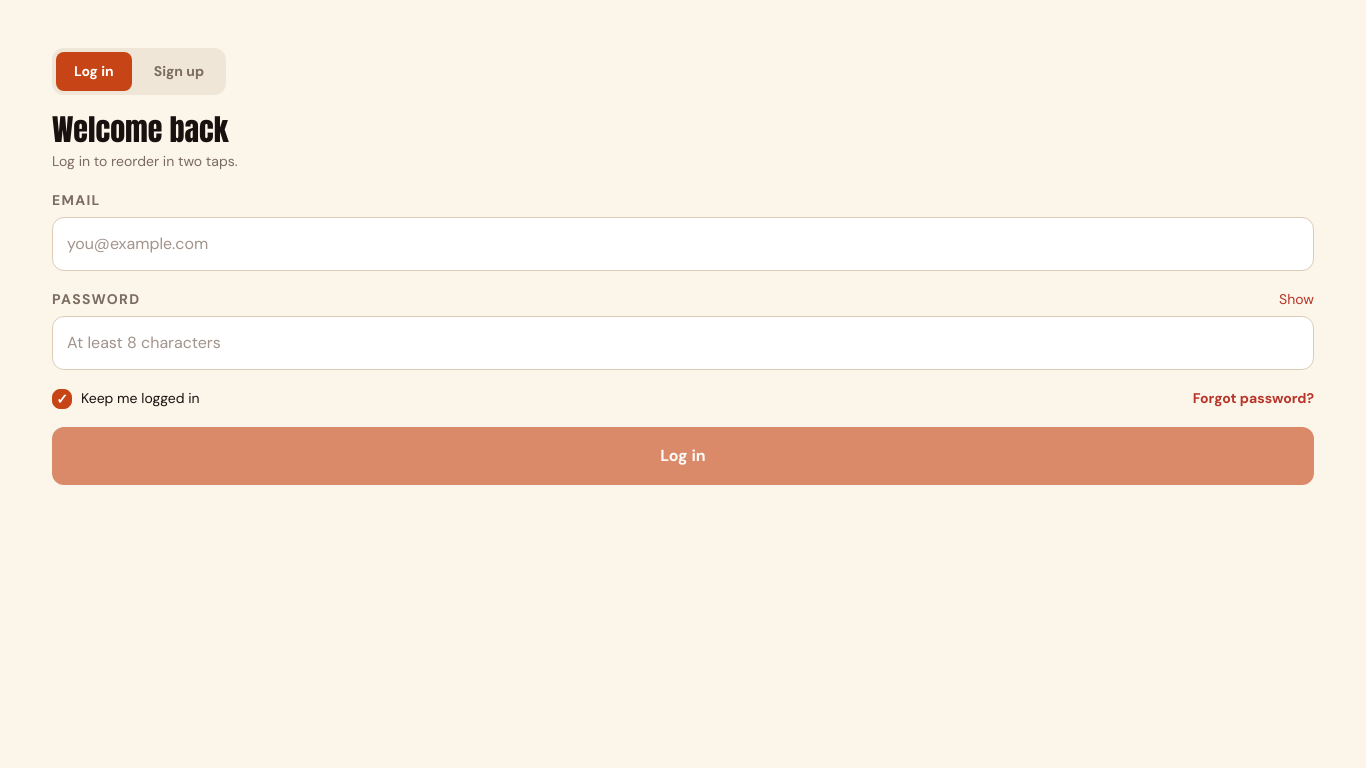
US-01: CustomerLoginForm Validations › offers to resend the confirmation email when the address is unconfirmed
The width and height of the screenshot is (1366, 768).
Type "ana@example.com" into the field labelled "Email". click: (683, 244)
box: [52, 217, 1314, 271]
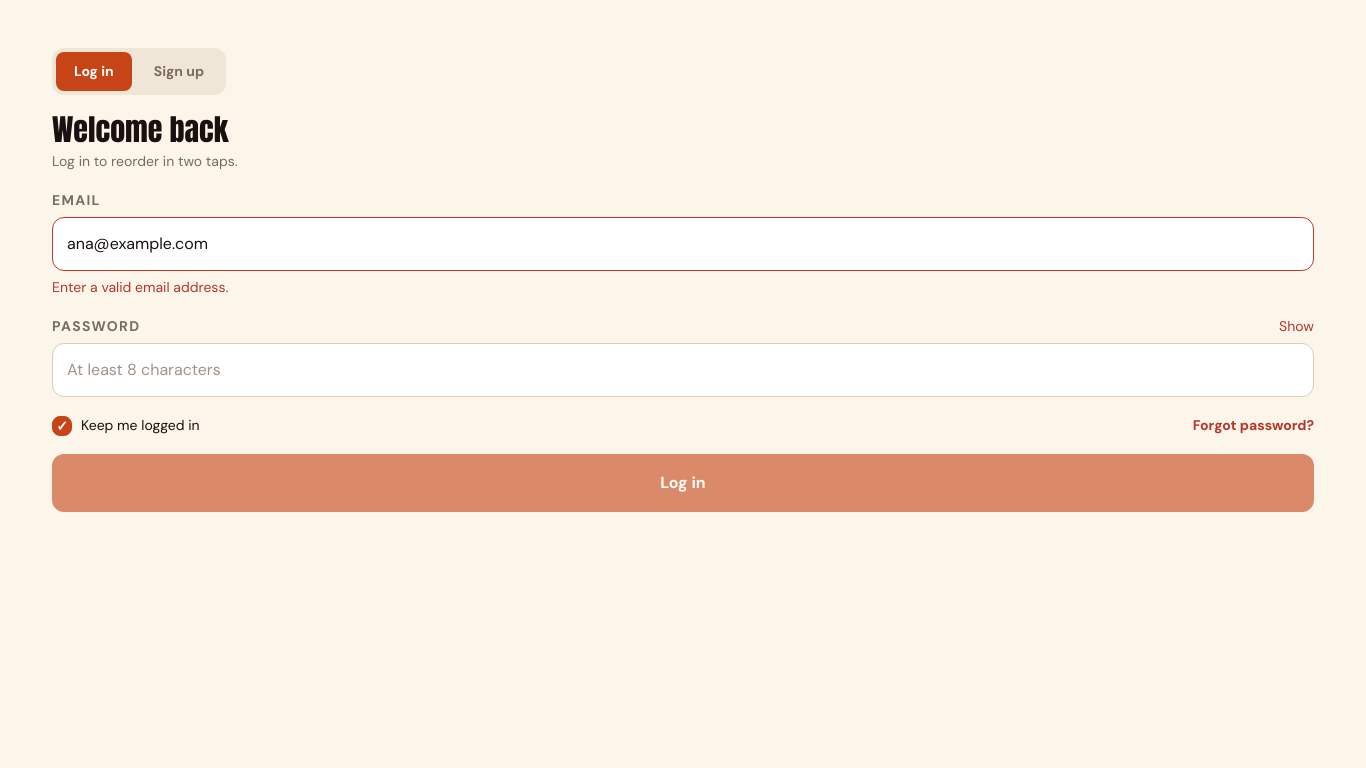
Type "password123" into the password field labelled "Password". click: (683, 370)
box: [52, 343, 1314, 397]
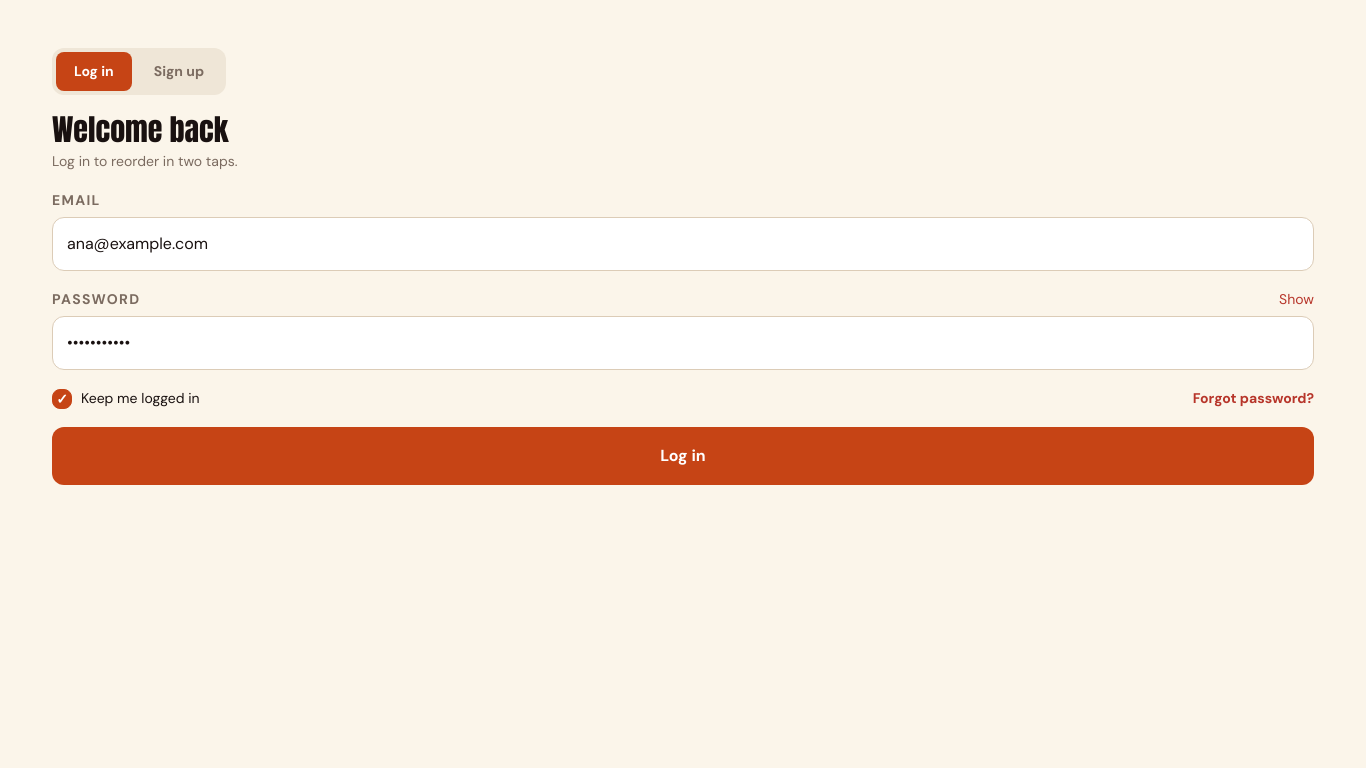
Expected: the button "Log in" is enabled
Click the button "Log in". click: (683, 456)
box: [52, 427, 1314, 485]
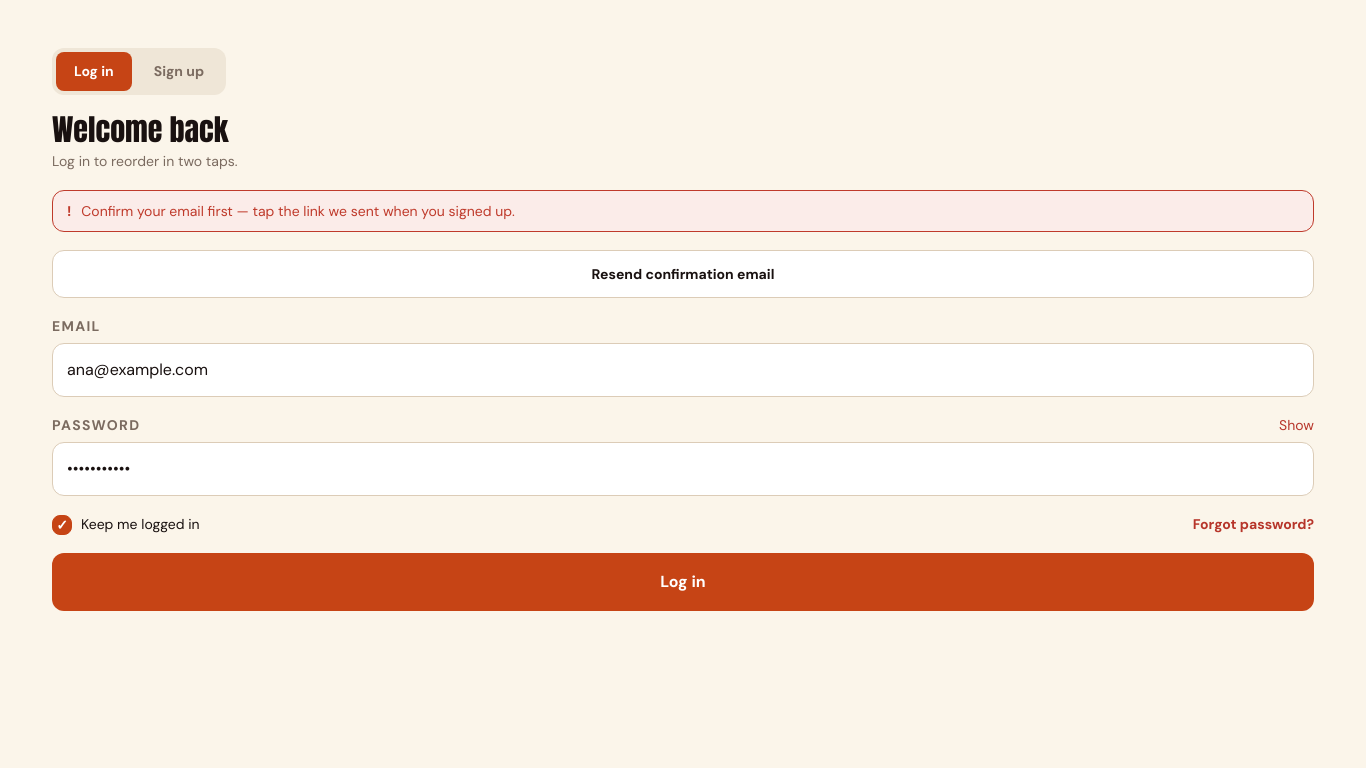
Click the button "Resend confirmation email". click: (683, 274)
box: [52, 250, 1314, 298]
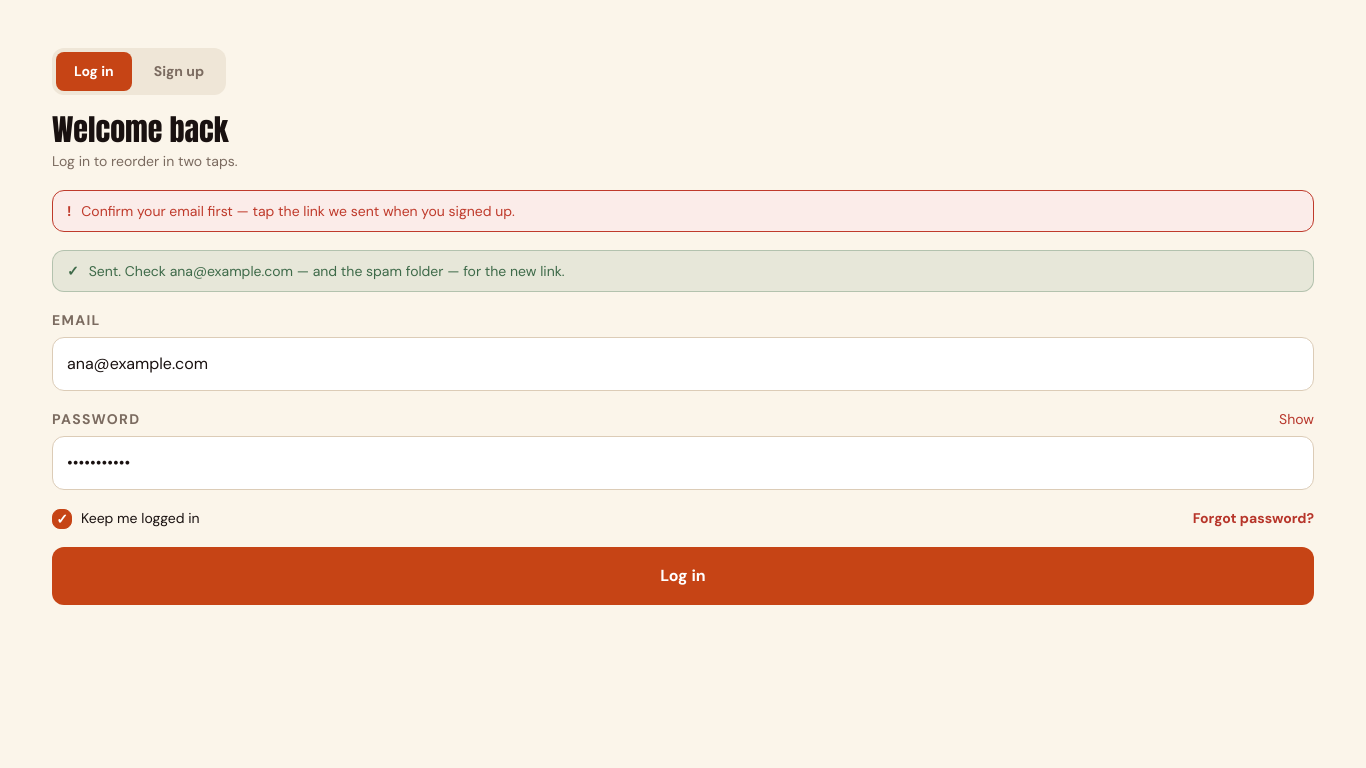
Expected: the text "Check ana@example.com" is shown, [89, 262, 564, 280]
